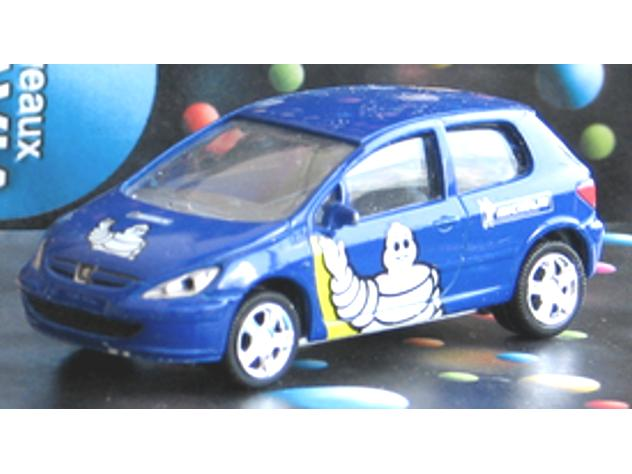toy-car: (15, 80, 607, 393)
